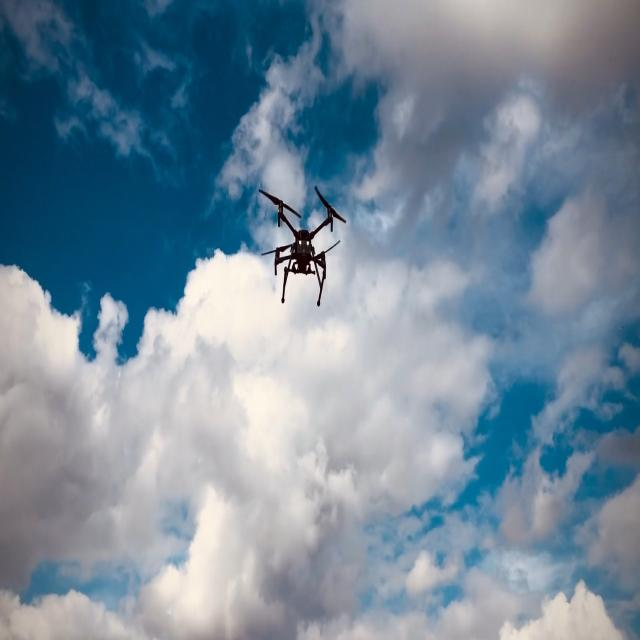drone: (258, 184, 346, 307)
